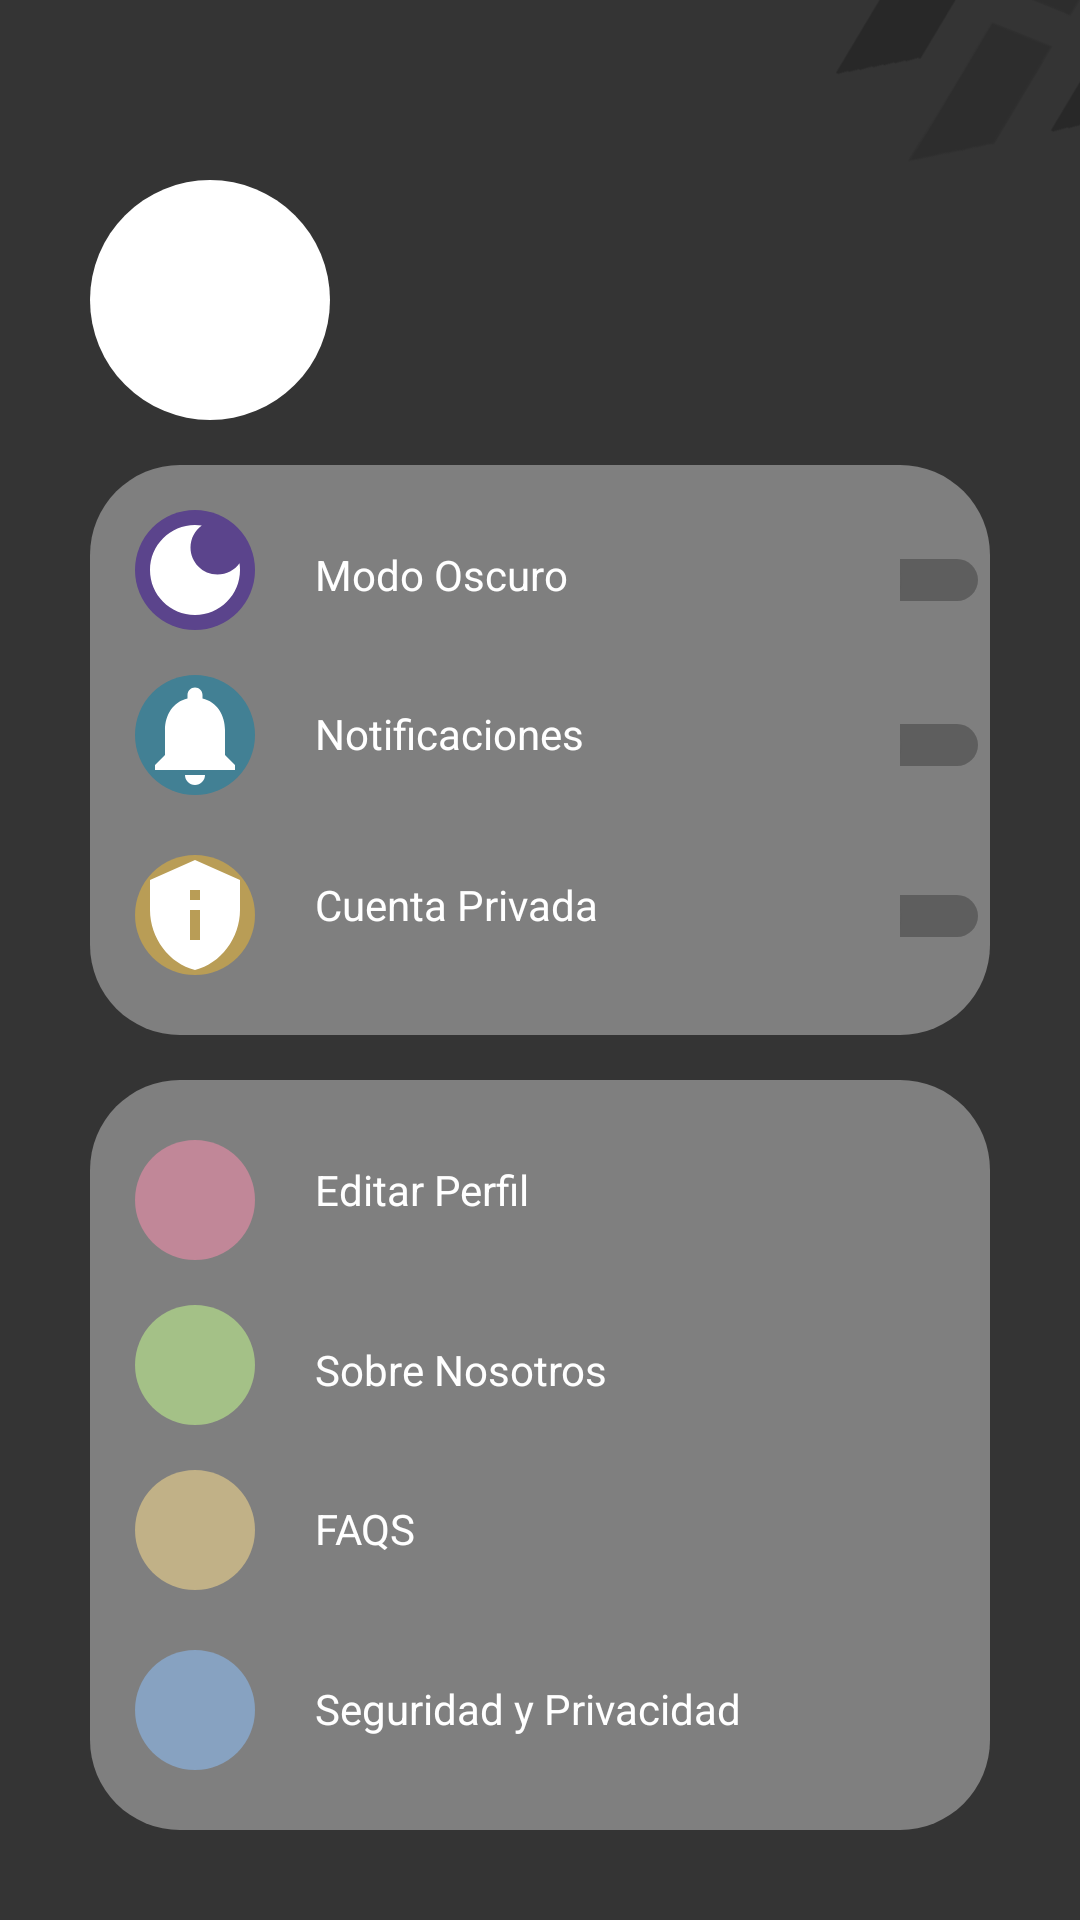

Icons on this 1080×1920 Android screen, each with the point to tap as point (x, y):
bell: point (195, 735)
mode: point (195, 570)
private acc: point (195, 915)
